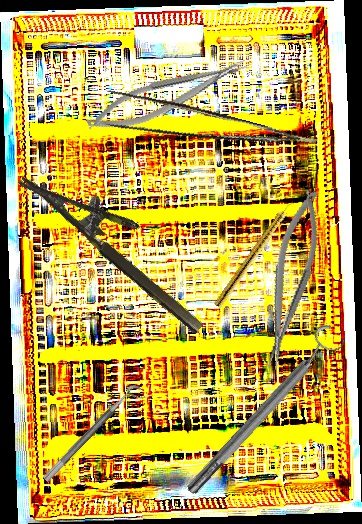Fixation Ring: (176, 319, 350, 503), (41, 381, 149, 491)
Handpiece: (213, 198, 297, 311)
Needle Holder: (18, 147, 225, 336), (248, 185, 333, 373), (81, 51, 254, 141)
Tissue Forceps: (95, 82, 317, 179)
